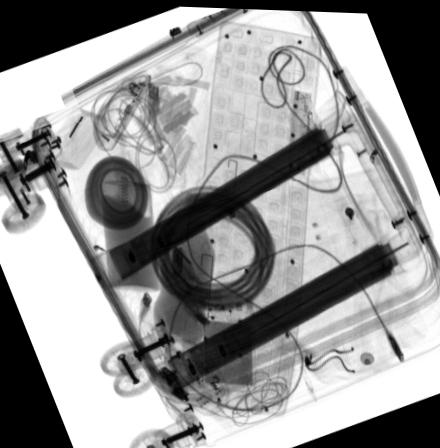Powerbank: (200, 301, 254, 388)
